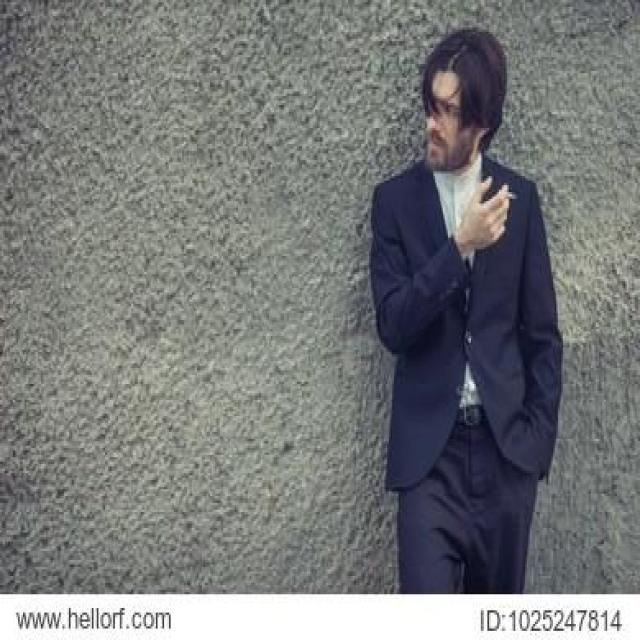Сигарета: (500, 192, 516, 199)
Тело: (371, 29, 559, 593)
